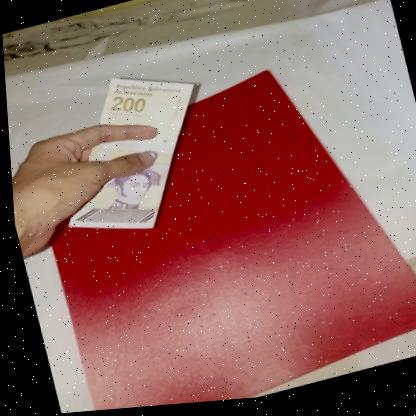two_hundred-front-vef: (32, 57, 223, 252)
